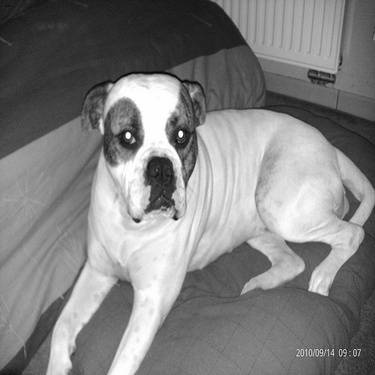dog: (42, 67, 372, 371)
